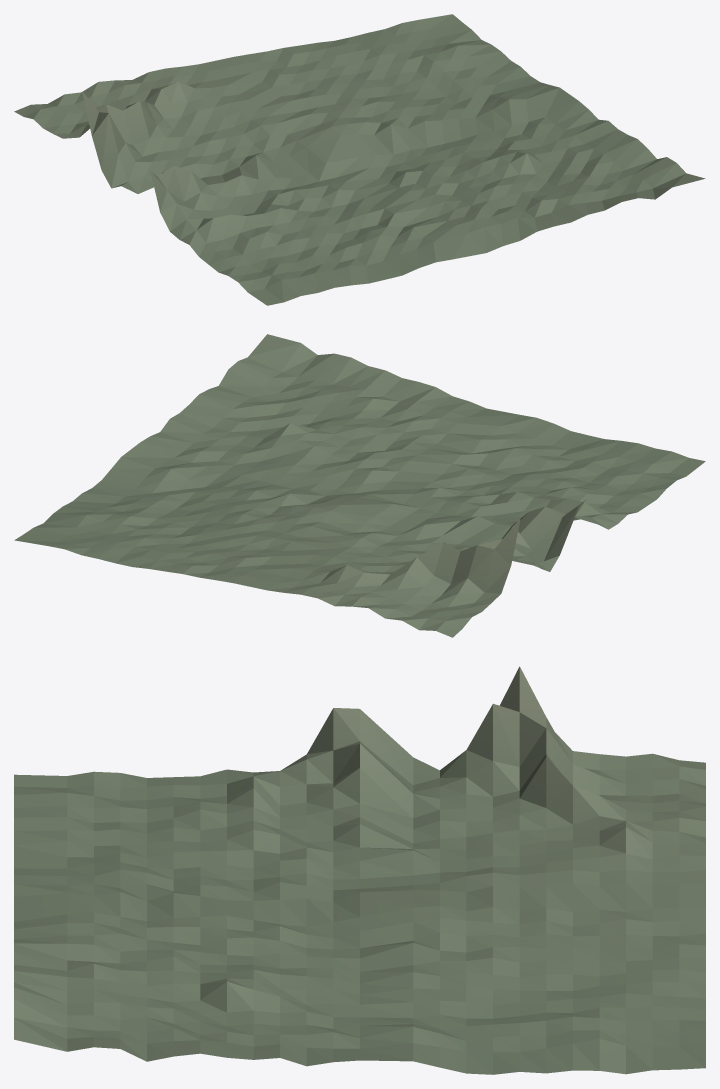
Rendered from tile_0_0.glb.
The picture shows the model from 3 angles, top to bottom: view 1: azimuth 30°, elevation 25°; view 2: azimuth 150°, elevation 25°; view 3: azimuth 270°, elevation 25°; orthographic projection. The views are drawn at different scales.
Parts seen in each view (by area): view 1: geometry_0; view 2: geometry_0; view 3: geometry_0.
Part boxes in pixels (x1,y1,x2,y2): geometry_0: [14, 14, 705, 305]; geometry_0: [14, 334, 705, 637]; geometry_0: [14, 666, 705, 1074].
Size of the model in its own units: 127 by 23.63 by 127.
